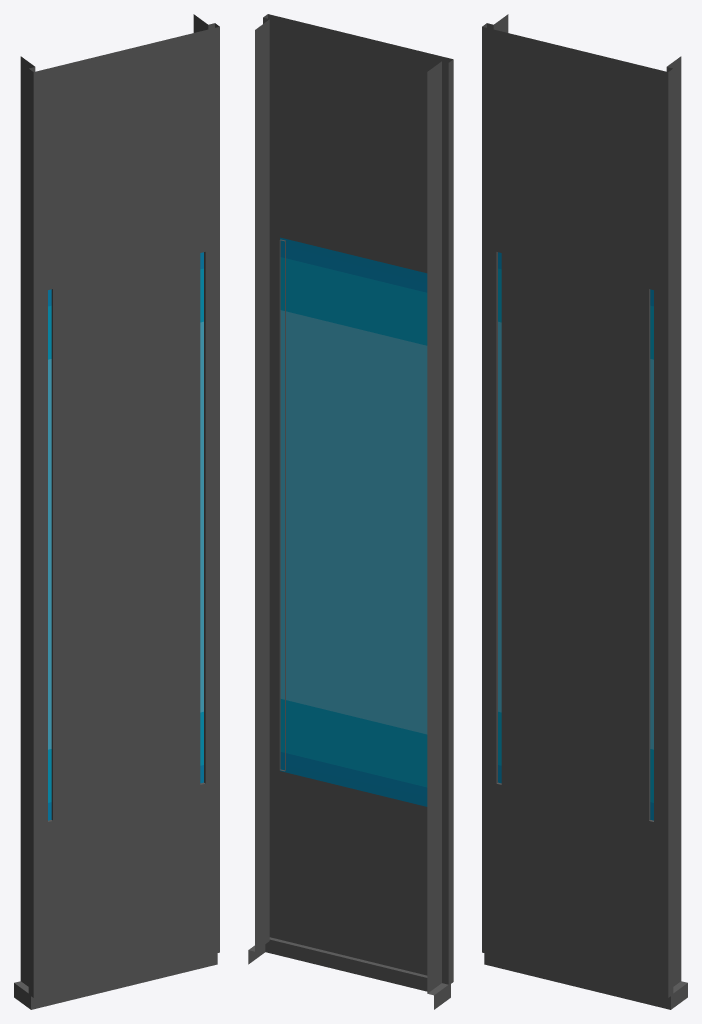
File: MMo_W_001_COL_h_2x10.fbx
The picture shows the model from 3 angles, left to right: view 1: azimuth 30°, elevation 25°; view 2: azimuth 150°, elevation 25°; view 3: azimuth 330°, elevation 25°; orthographic projection.
Parts seen in each view (by area): view 1: MMo_W_001_COL_h_2x10; view 2: MMo_W_001_COL_h_2x10; view 3: MMo_W_001_COL_h_2x10.
Boxes of the visible parts, bbox=[...] form: MMo_W_001_COL_h_2x10: bbox=[14, 14, 219, 1009]; MMo_W_001_COL_h_2x10: bbox=[248, 14, 453, 1009]; MMo_W_001_COL_h_2x10: bbox=[482, 14, 687, 1009].
Bounding box in the file's own units: 2.2 × 0.4 × 10.6.
